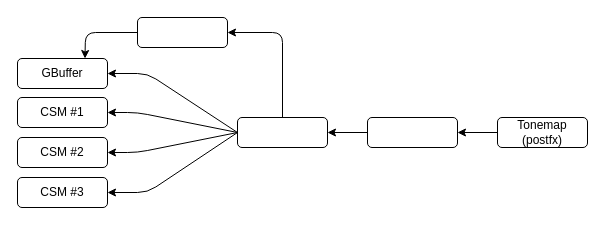
This 605x225 diagram has some shape labels left out. Each missing label, with the box of its shape:
Lighting: (236, 116, 328, 148)
Luminance (postfx): (366, 116, 458, 148)
SSAO (postfx): (136, 16, 228, 48)
